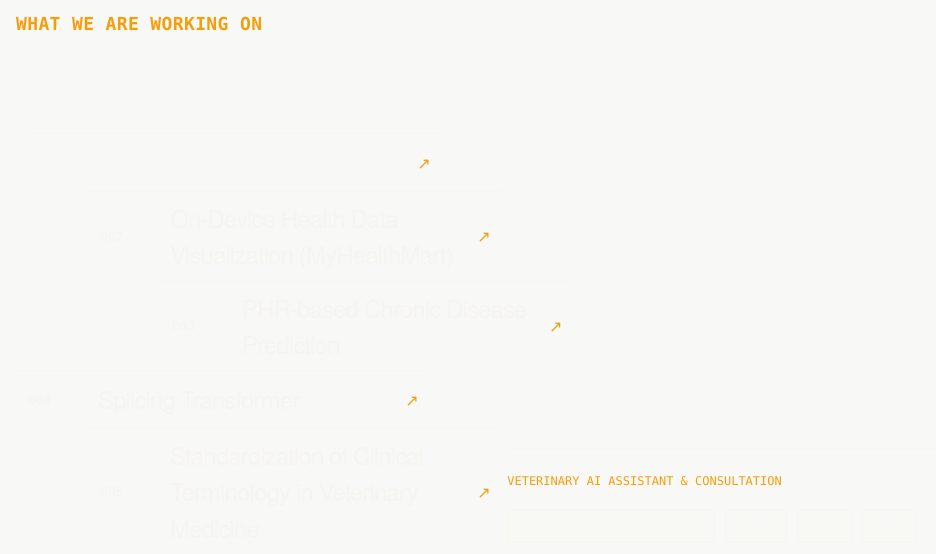
selects a project in the research field
Click the button "003 PHR-based Chronic Disease Prediction ↗" at (367, 325), box top-left (160, 281), bottom-right (574, 370)
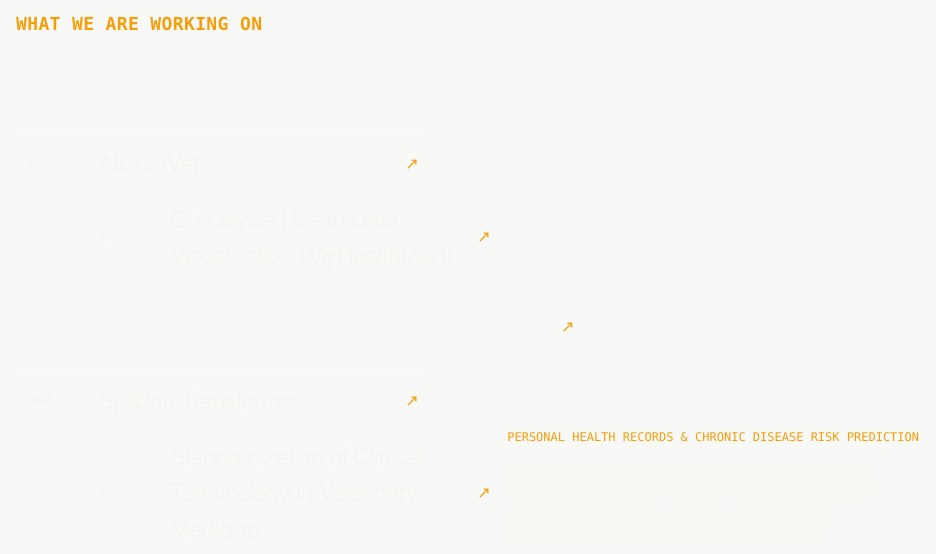
Expected: the message shows "Personal health records & chronic disease risk prediction", top-left (507, 430), bottom-right (919, 444)
